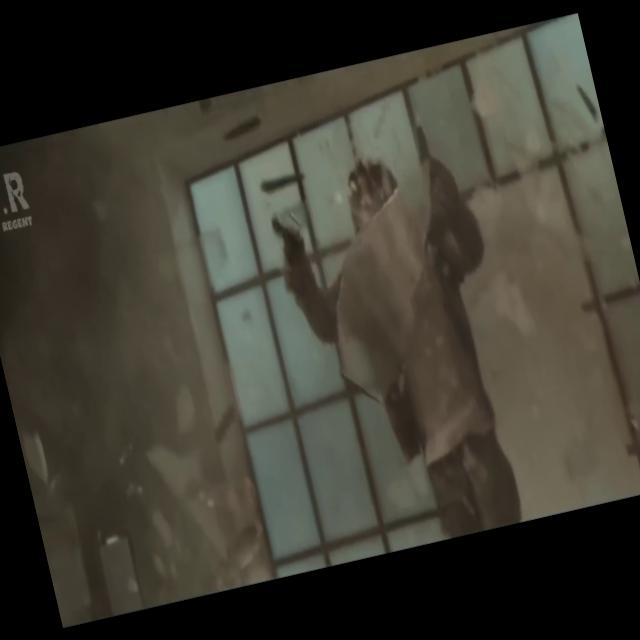handgun: (249, 170, 346, 310)
